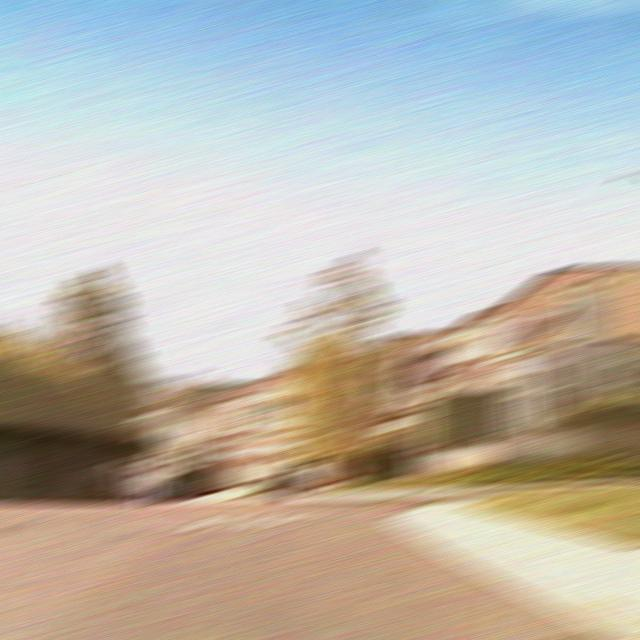stop: (396, 351, 439, 390)
